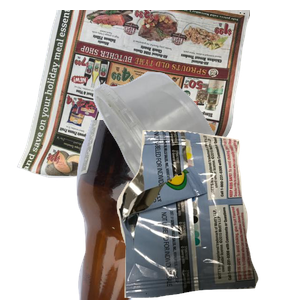glass: (60, 120, 300, 300)
paper: (14, 10, 254, 190)
plastic: (91, 69, 300, 249)
trash: (114, 130, 300, 300)
